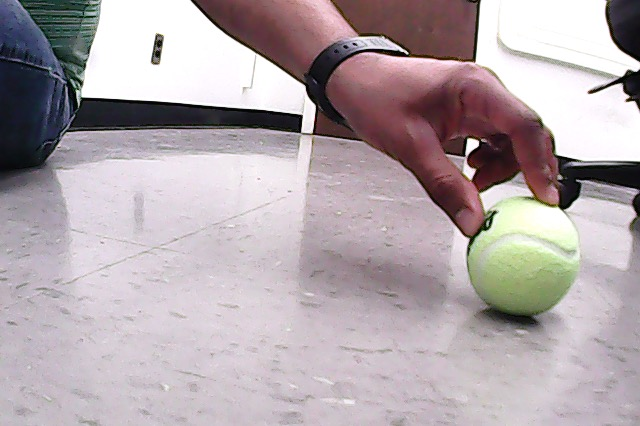ball: (461, 195, 584, 321)
